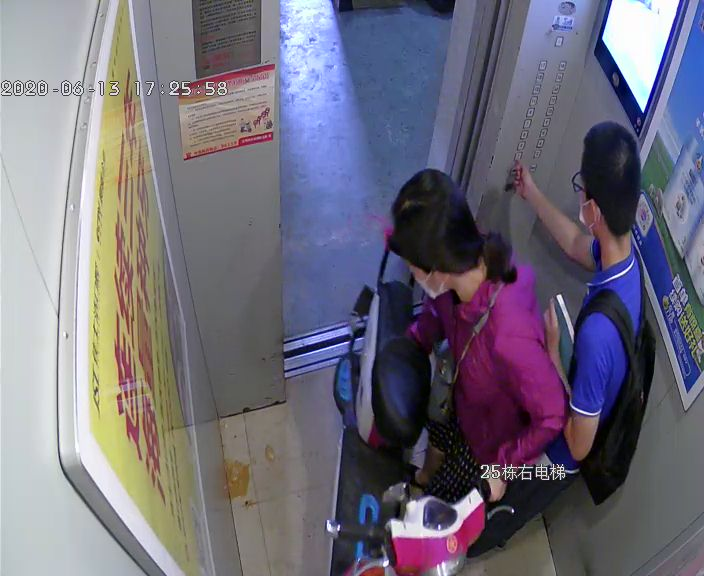Electric-bicycle: (329, 260, 490, 575)
